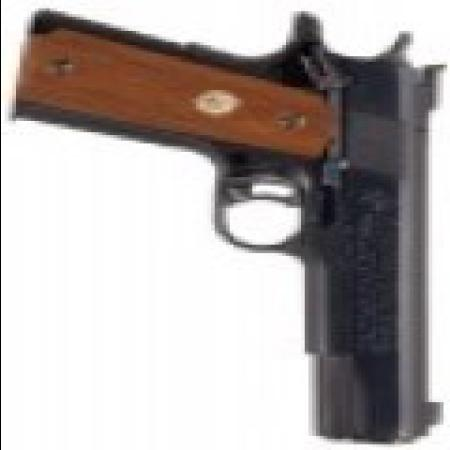Pistol: (19, 11, 439, 441)
